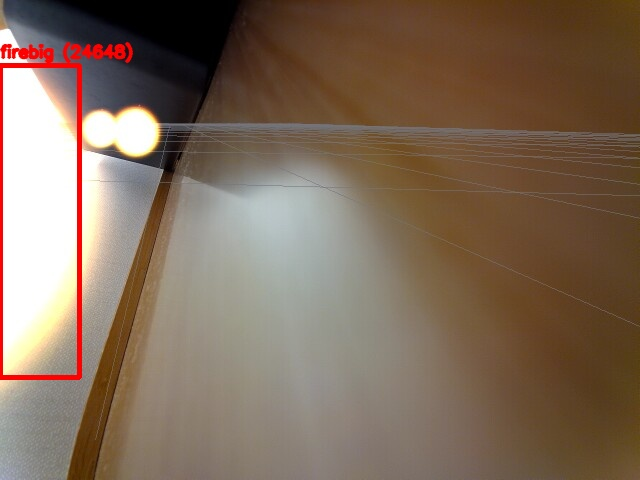firebig: (0, 65, 79, 377)
